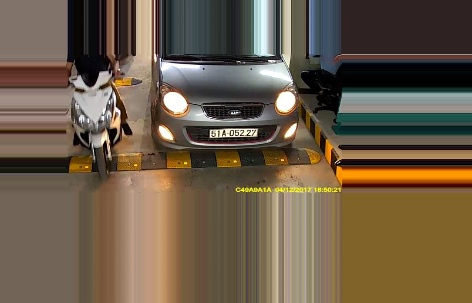plate: (209, 127, 259, 139)
